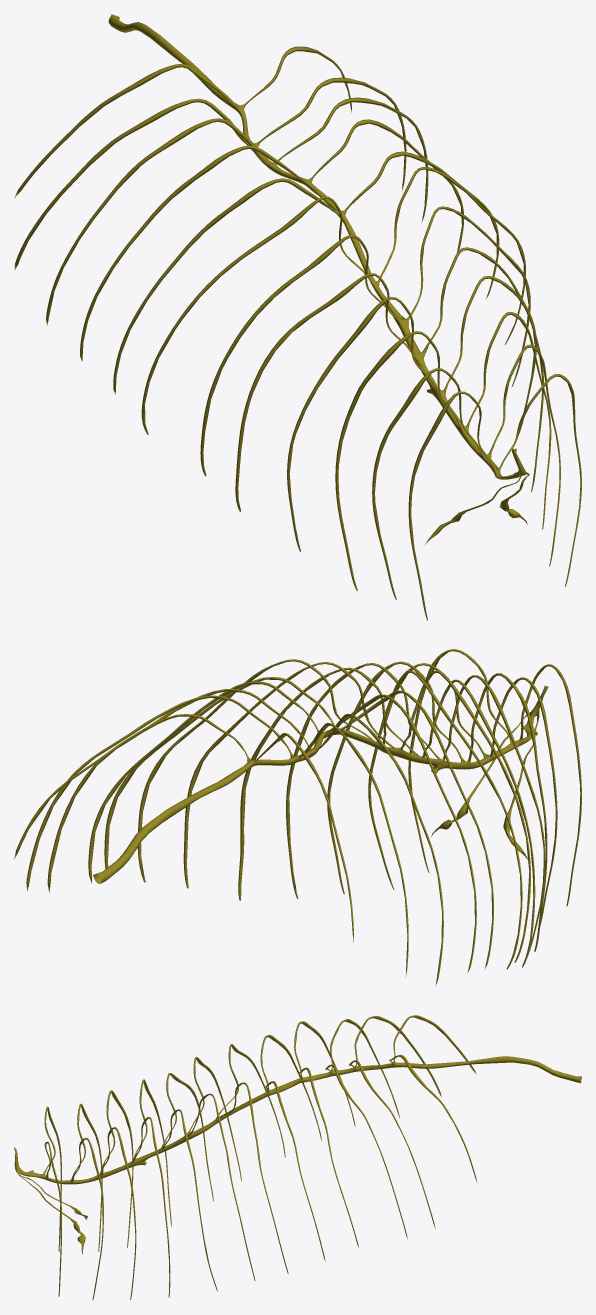
The model's file is ductus thoracicus.fbx.
3 renders of one model, top to bottom at view 1: azimuth 30°, elevation 25°; view 2: azimuth 150°, elevation 25°; view 3: azimuth 270°, elevation 25°, orthographic. The views are drawn at different scales.
Parts seen in each view (by area): view 1: ductus thoracicus, ductus thoracicus low; view 2: ductus thoracicus, ductus thoracicus low; view 3: ductus thoracicus, ductus thoracicus low.
Part boxes in pixels (box(x1,y1,x2,y2)): ductus thoracicus: box(14, 14, 581, 620); ductus thoracicus low: box(21, 14, 581, 611); ductus thoracicus: box(14, 649, 581, 985); ductus thoracicus low: box(18, 649, 580, 976); ductus thoracicus: box(14, 1015, 581, 1300); ductus thoracicus low: box(15, 1015, 581, 1292).
Bounding box in the file's own units: 33.16 × 29.37 × 62.27.
